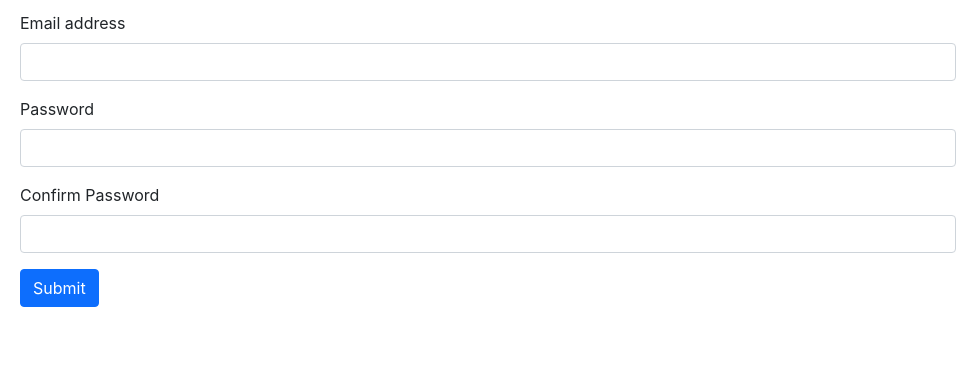
Test: App component › Error handling › Should show the password error if password length is less than 5 characters
Type "test@gmail.com" into the field labelled "Email address".
click(488, 62); type("test@gmail.com")  # box [20,43,956,81]
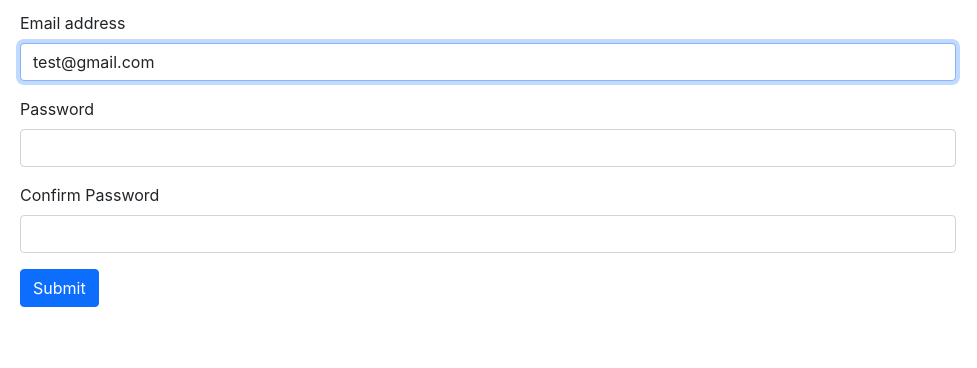
Expected: the text "the password you entered should contain at least 5 characters" is not shown
Type "123" into the password field labelled "Password".
click(488, 148); type("123")  # box [20,129,956,167]
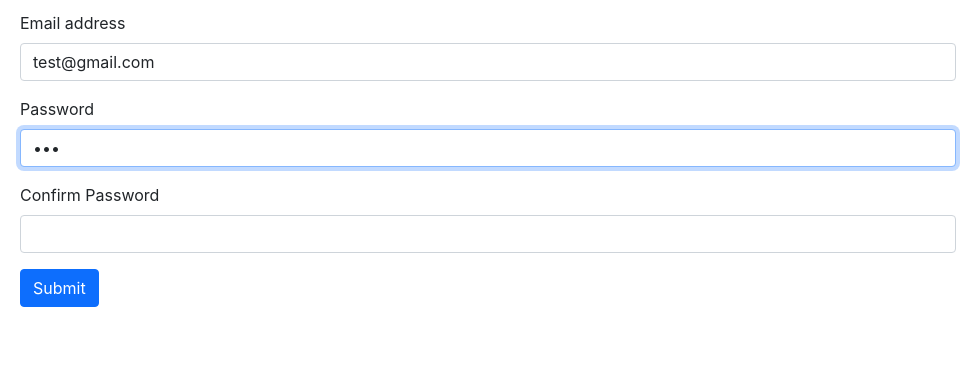
Click the button "Submit".
click(59, 288)  # box [20,269,99,307]
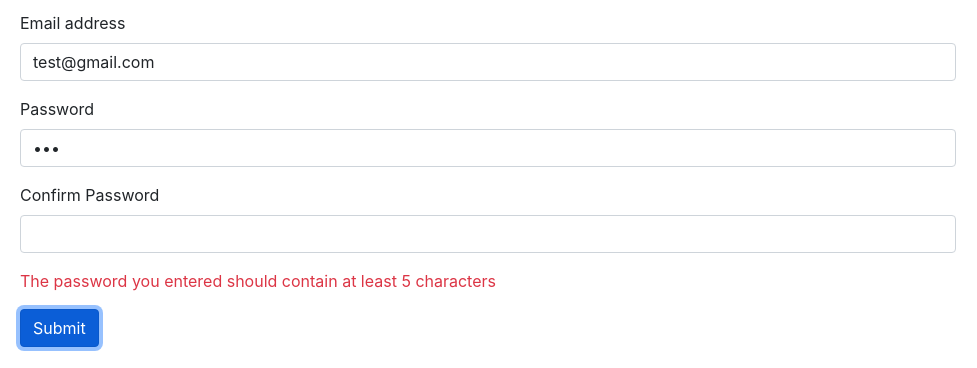
Expected: the text "The password you entered should contain at least 5 characters" is shown, [20,271,496,291]
